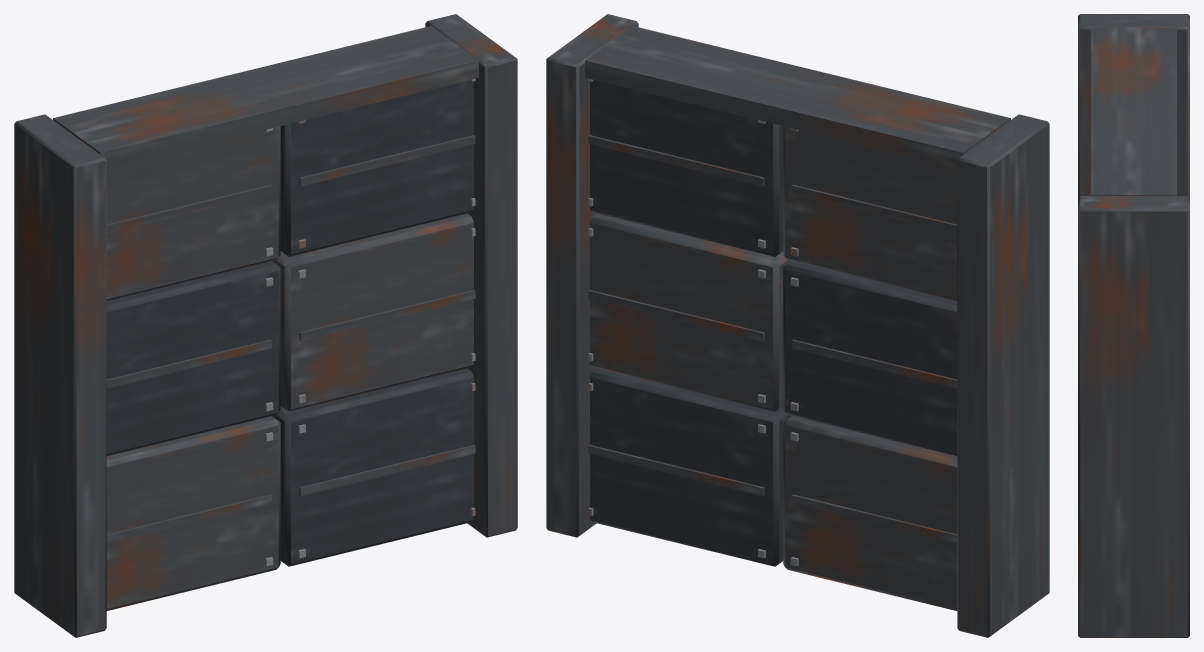
The model's file is SM_MetalWall.fbx.
The picture shows the model from 3 angles, left to right: view 1: azimuth 30°, elevation 25°; view 2: azimuth 150°, elevation 25°; view 3: azimuth 270°, elevation 25°; orthographic projection. The views are drawn at different scales.
Parts seen in each view (by area): view 1: SM_MetalWall; view 2: SM_MetalWall; view 3: SM_MetalWall.
Boxes of the visible parts, x1=… form: SM_MetalWall: x1=14, y1=14, x2=517, y2=637; SM_MetalWall: x1=546, y1=14, x2=1049, y2=637; SM_MetalWall: x1=1078, y1=14, x2=1189, y2=637.
Size of the model in its own units: 10.8 by 11 by 2.6.
Materials: 1 (1 with a texture image).
